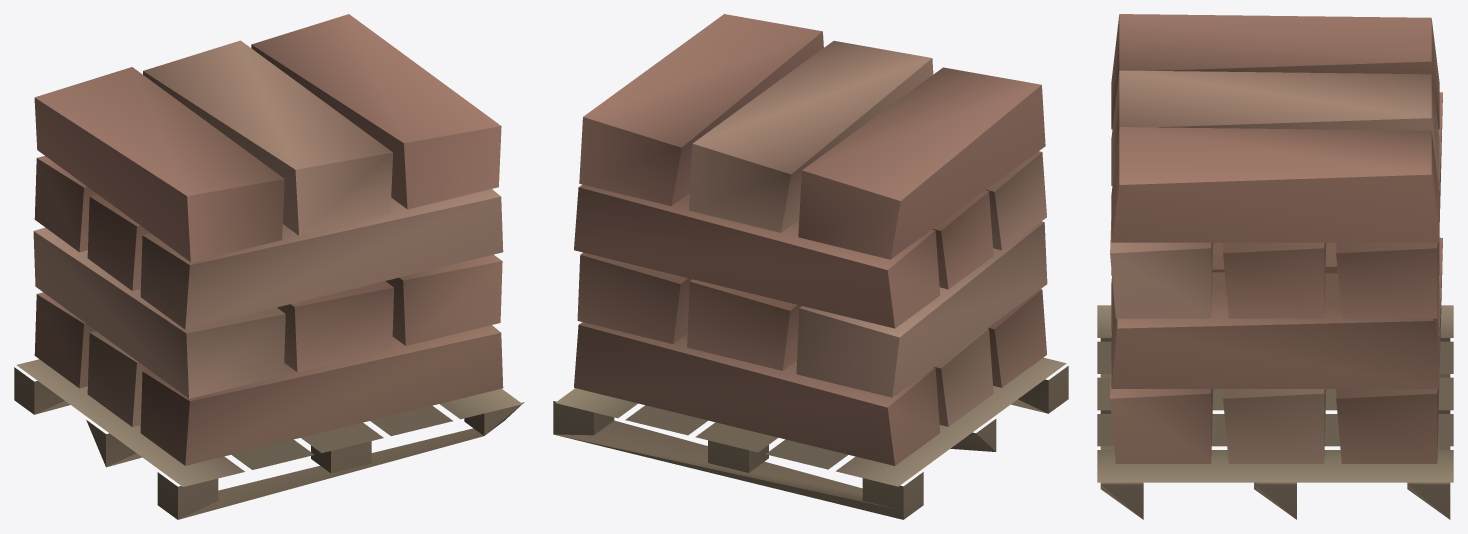
File: pallet.lod1.glb
3 renders of one model, left to right at view 1: azimuth 30°, elevation 25°; view 2: azimuth 150°, elevation 25°; view 3: azimuth 270°, elevation 25°, orthographic. The views are drawn at different scales.
Size of the model in its own units: 1.2 by 1.03 by 1.
